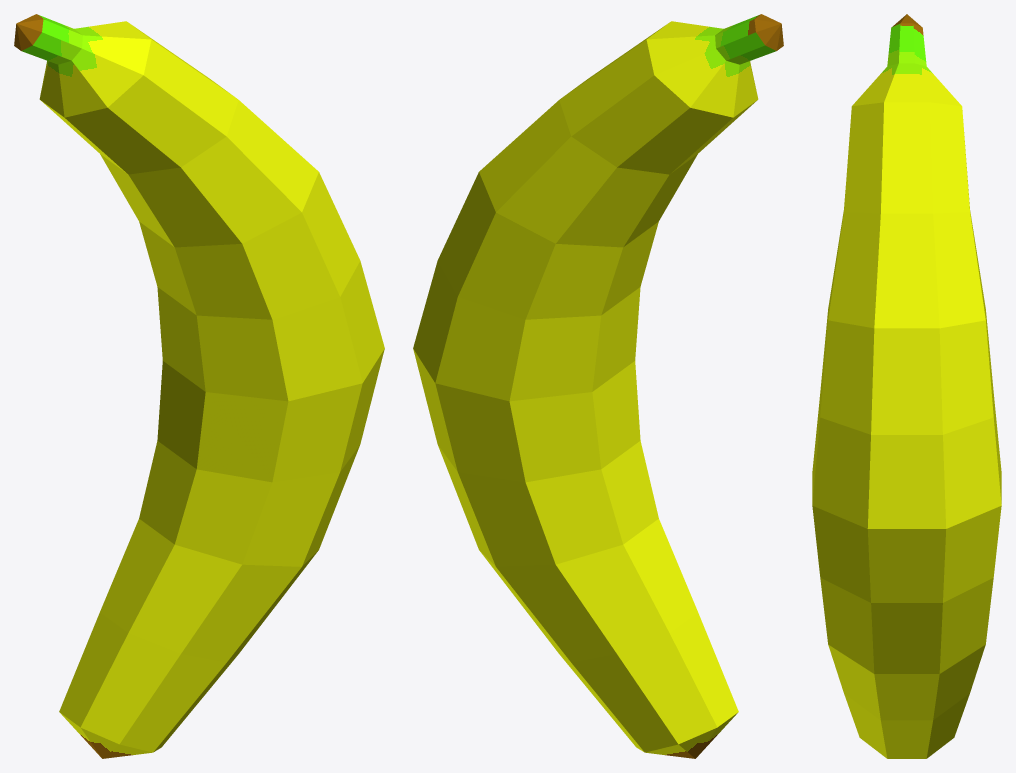
Rendered from banana.gltf.
3 views of the same model, side by side, from view 1: azimuth 30°, elevation 25°; view 2: azimuth 150°, elevation 25°; view 3: azimuth 270°, elevation 25° (orthographic). The views are drawn at different scales.
Parts seen in each view (by area): view 1: cylinder; view 2: cylinder; view 3: cylinder.
Boxes of the visible parts, box(x1,y1,x2,y2) form: cylinder: box(14, 14, 384, 758); cylinder: box(413, 14, 783, 758); cylinder: box(812, 14, 1001, 758).
Bounding box in the file's own units: 0.7265 × 1.51 × 0.375.
1 material, 1 textured.
